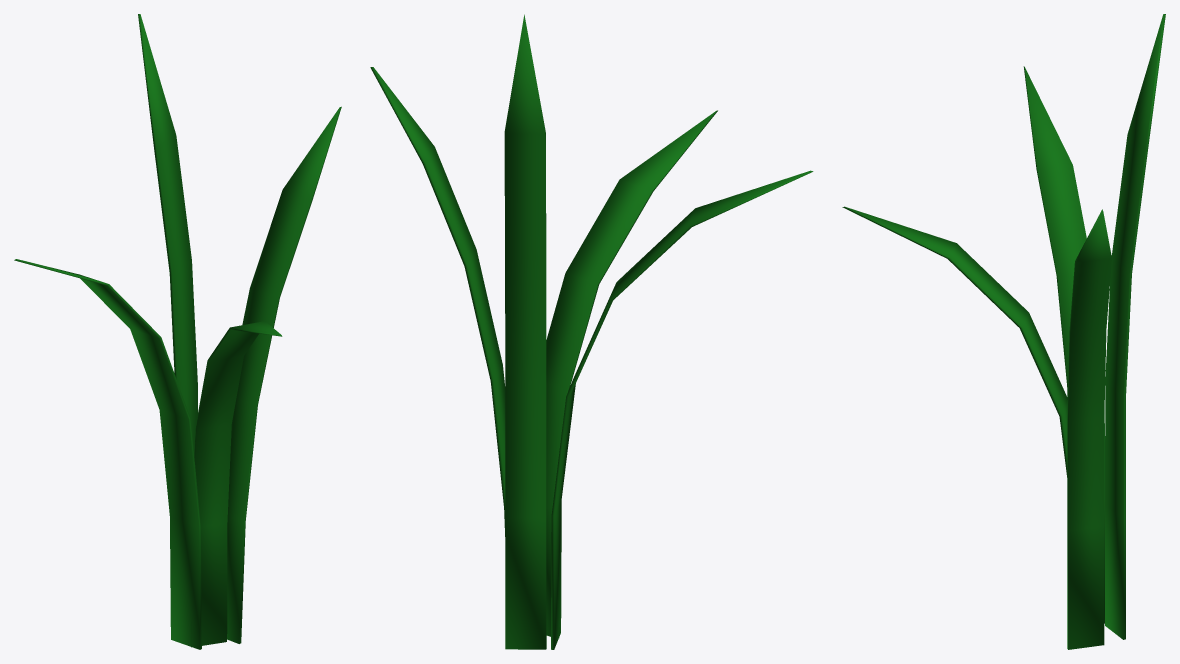
The model's file is GrassHQ.fbx.
3 renders of one model, left to right at view 1: azimuth 30°, elevation 25°; view 2: azimuth 150°, elevation 25°; view 3: azimuth 270°, elevation 25°, orthographic. The views are drawn at different scales.
Visible parts, largest first — view 1: Plane.003; view 2: Plane.003; view 3: Plane.003.
Part boxes in pixels (bbox=[...]): Plane.003: bbox=[14, 14, 341, 649]; Plane.003: bbox=[370, 14, 813, 649]; Plane.003: bbox=[842, 14, 1165, 649].
Bounding box in the file's own units: 13.88 × 21.93 × 10.56.
